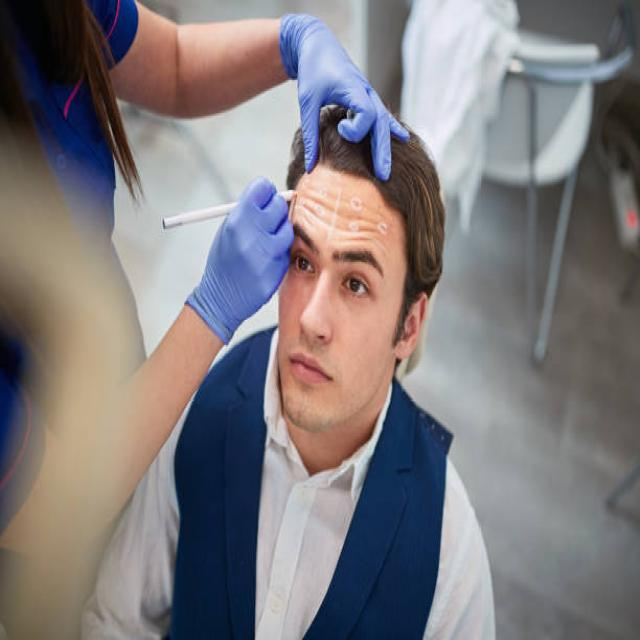Dry-Skin: (300, 169, 383, 251)
